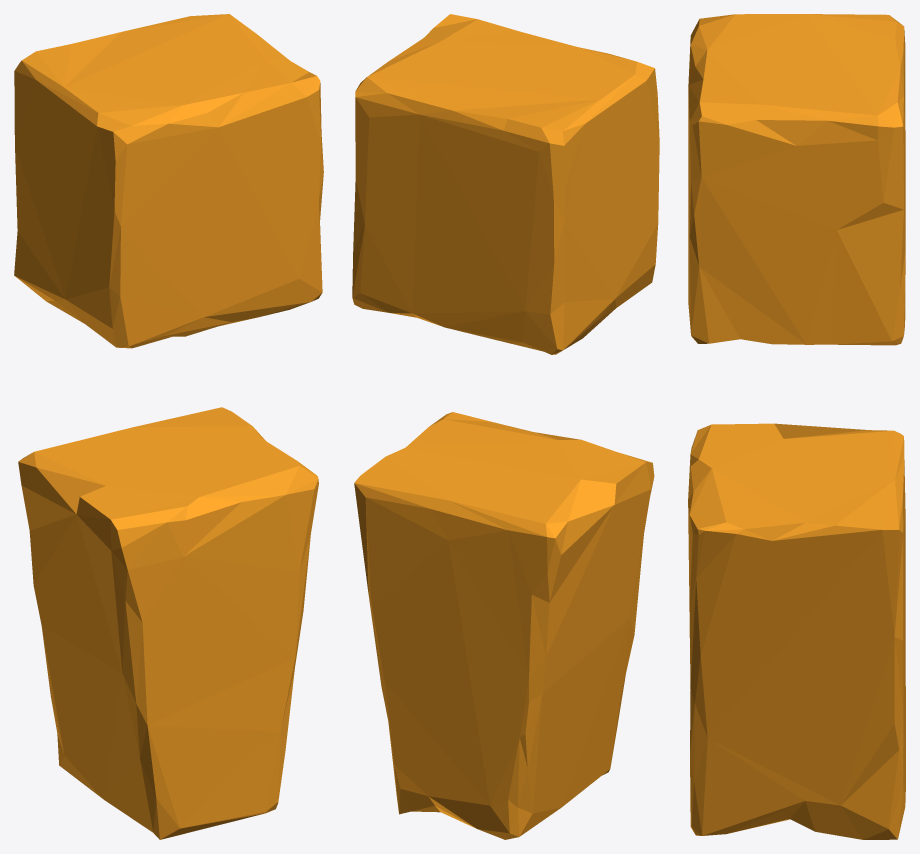
The model's file is SM_Icon_Letter_Colon_01.fbx.
The picture shows the model from 3 angles, left to right: view 1: azimuth 30°, elevation 25°; view 2: azimuth 150°, elevation 25°; view 3: azimuth 270°, elevation 25°; orthographic projection. The views are drawn at different scales.
Visible parts, largest first — view 1: SM_Icon_Letter_Colon_01; view 2: SM_Icon_Letter_Colon_01; view 3: SM_Icon_Letter_Colon_01.
Boxes of the visible parts, <box> form: SM_Icon_Letter_Colon_01: <box>14,14,323,839</box>; SM_Icon_Letter_Colon_01: <box>352,14,659,839</box>; SM_Icon_Letter_Colon_01: <box>688,14,905,839</box>.
Bounding box in the file's own units: 12.45 × 40.47 × 10.7.
